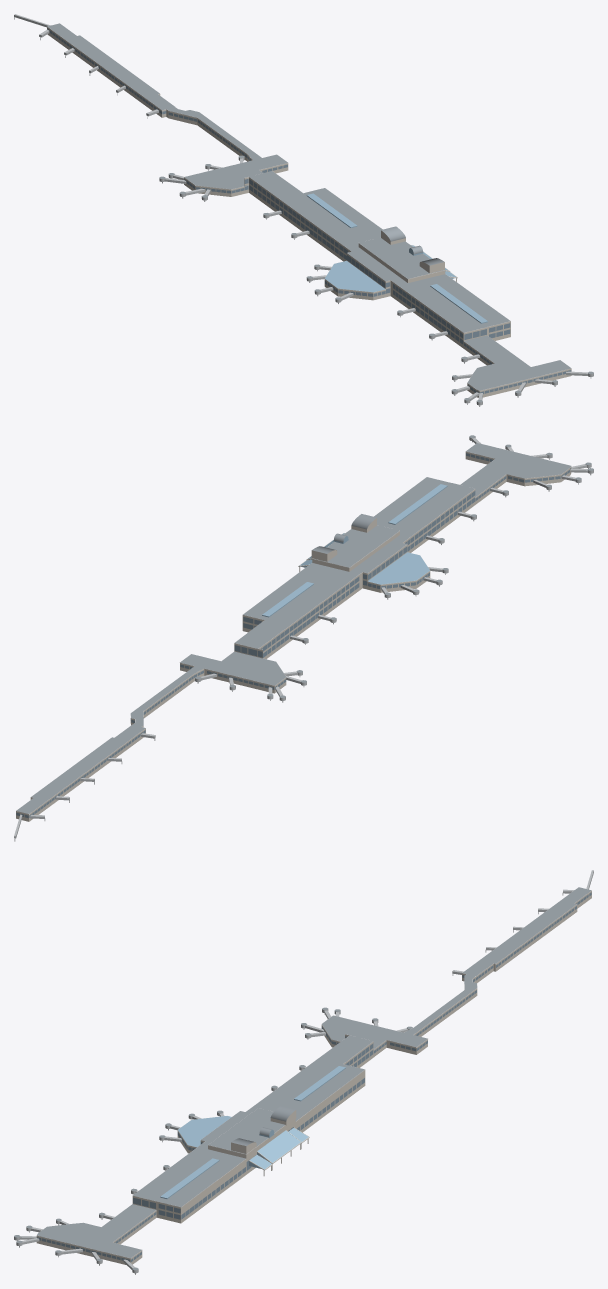
Rendered from tokyo-haneda-terminal-1.glb.
3 renders of one model, top to bottom at view 1: azimuth 30°, elevation 25°; view 2: azimuth 150°, elevation 25°; view 3: azimuth 330°, elevation 25°, orthographic. The views are drawn at different scales.
Visible parts, largest first — view 1: Haneda Airport Terminal 1; view 2: Haneda Airport Terminal 1; view 3: Haneda Airport Terminal 1.
Boxes of the visible parts, bbox=[...] form: Haneda Airport Terminal 1: bbox=[14, 14, 593, 406]; Haneda Airport Terminal 1: bbox=[14, 435, 593, 841]; Haneda Airport Terminal 1: bbox=[14, 870, 593, 1274].
Bounding box in the file's own units: 208 × 43.5 × 1459.
